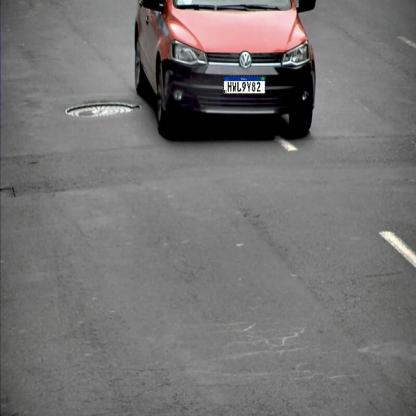PlacaM: (223, 76, 266, 94)
